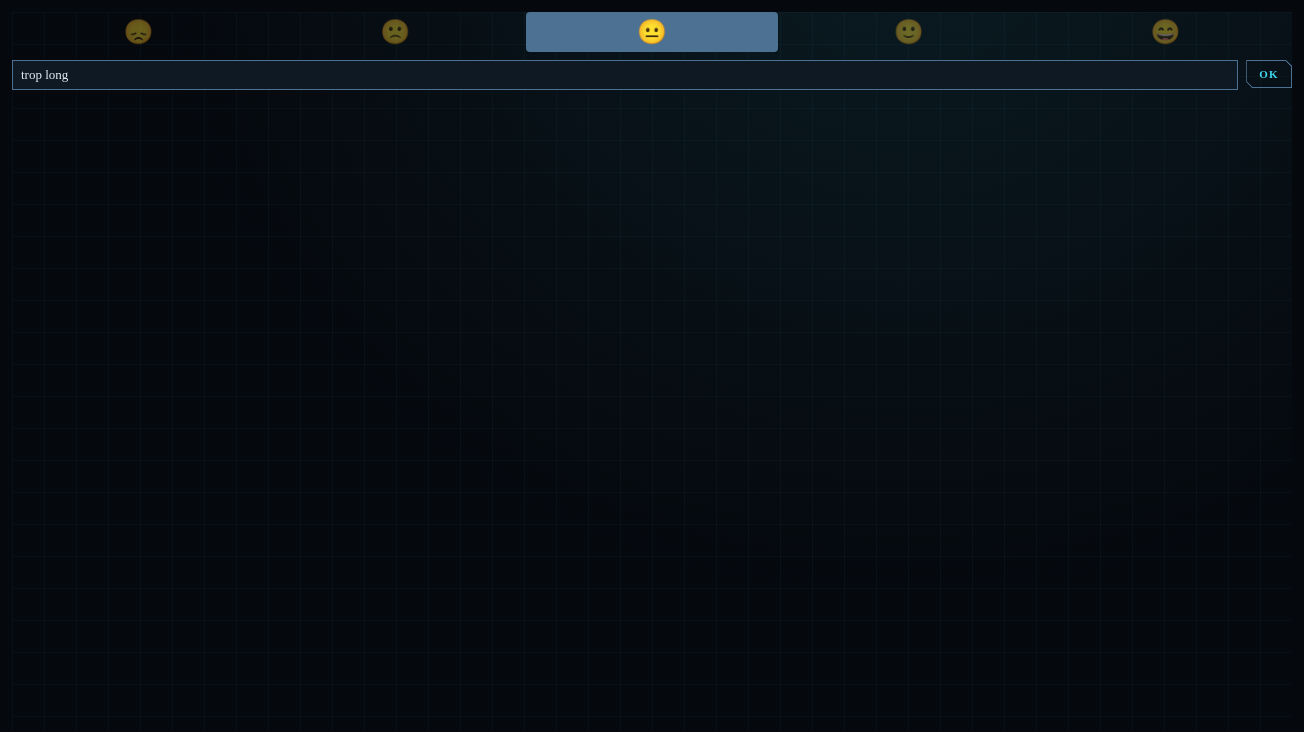
Scenario: MoodPicker › saveMoodNote renvoie { error }: erreur affichée
Step 1. Click the button "OK" → coordinates (1269, 74), box [1246,60,1292,88]
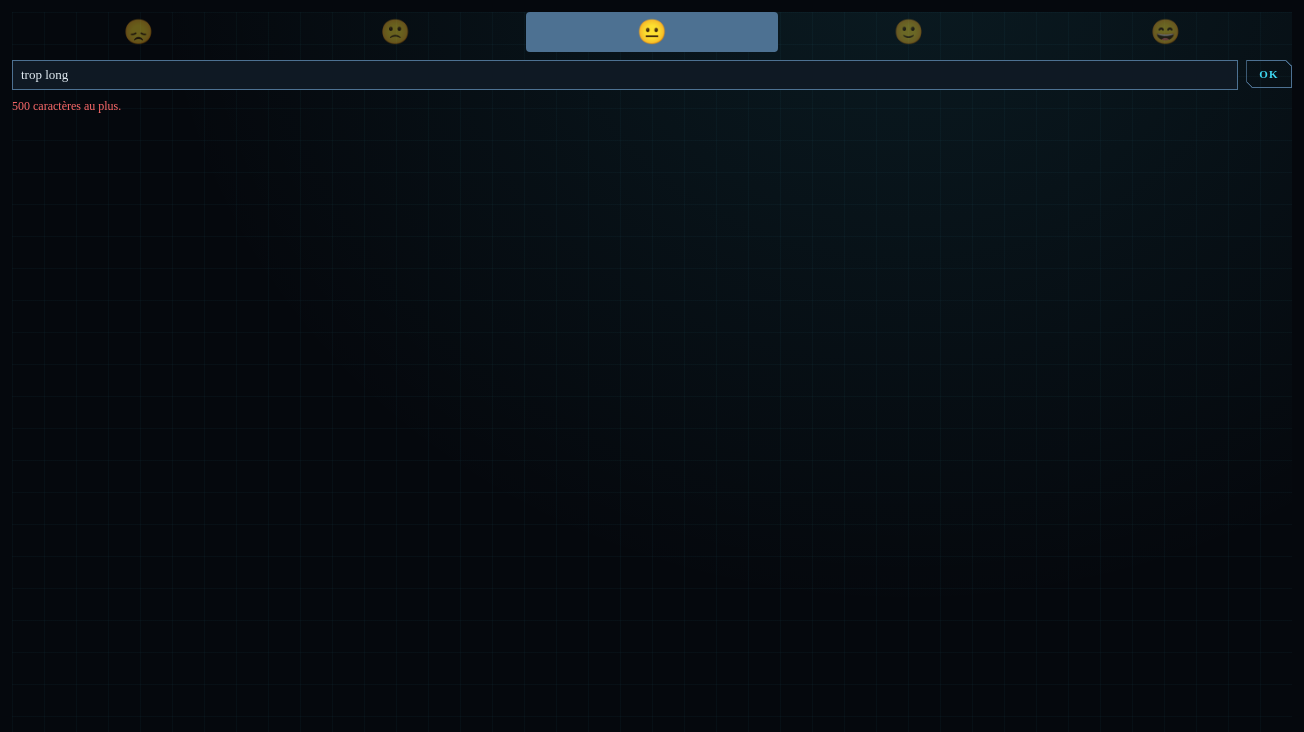
Check: the message reads "500 caractères au plus.", box [12,99,121,113]
